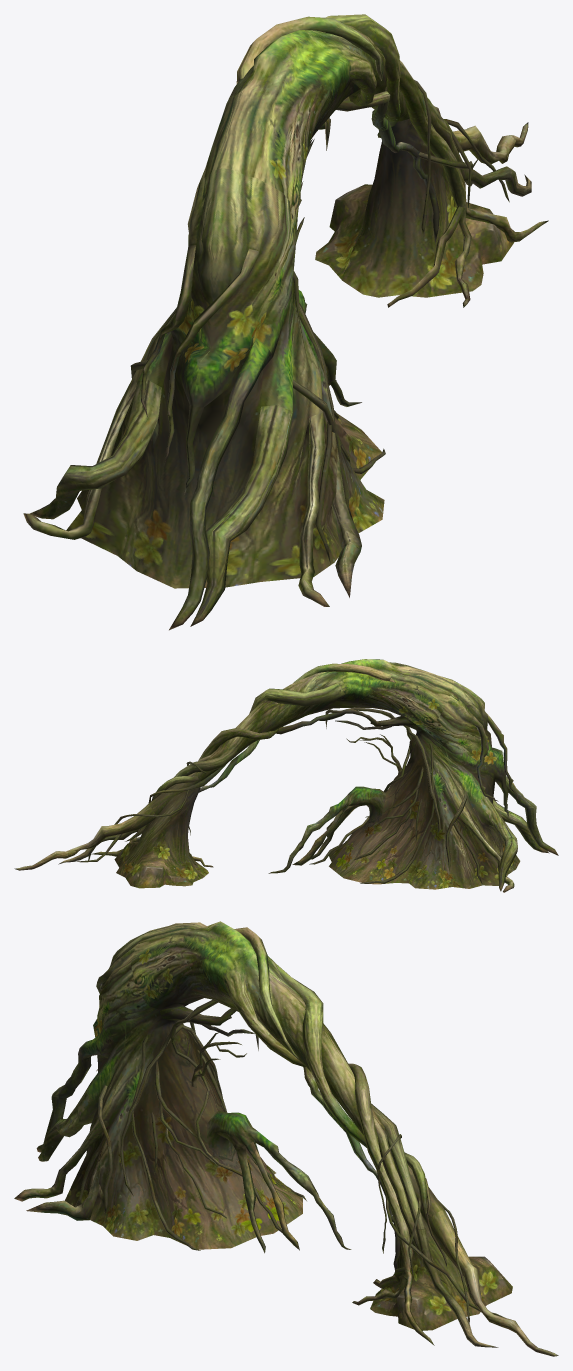
The model's file is shu_15.FBX.
3 views of the same model, one above another, from view 1: azimuth 30°, elevation 25°; view 2: azimuth 150°, elevation 25°; view 3: azimuth 270°, elevation 25° (orthographic). The views are drawn at different scales.
Visible parts, largest first — view 1: shu_15; view 2: shu_15; view 3: shu_15.
Part boxes in pixels (x1,y1,x2,y2): shu_15: [23, 14, 548, 630]; shu_15: [14, 659, 558, 892]; shu_15: [14, 921, 558, 1356].
Size of the model in its own units: 1402 by 779 by 1245.
